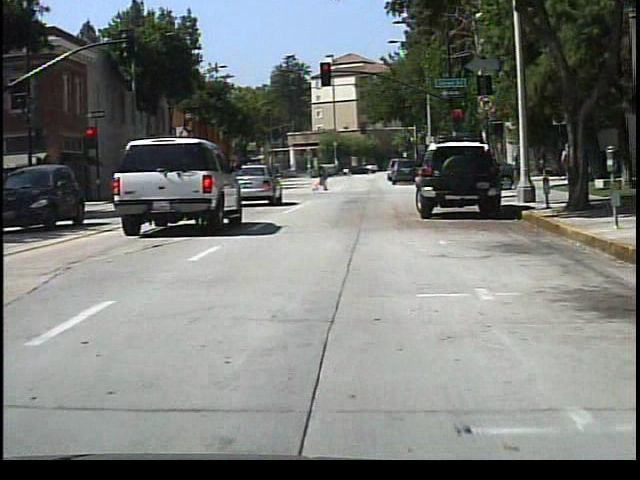person: (561, 139, 583, 190), (313, 159, 331, 196), (458, 151, 475, 185)
